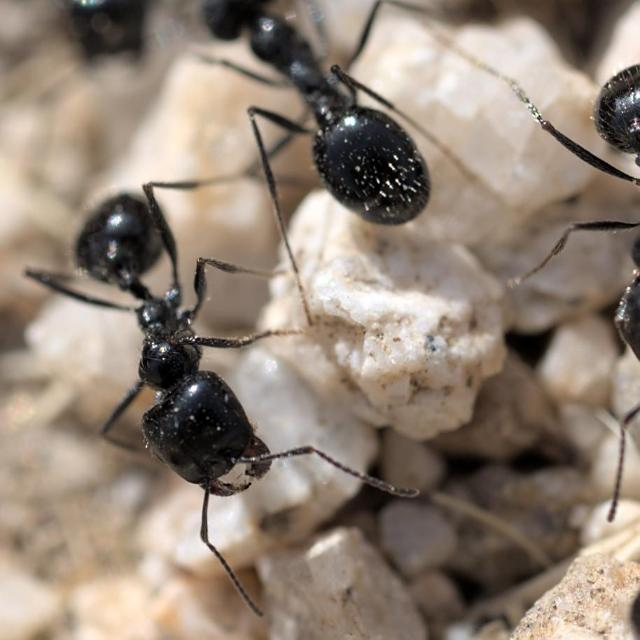Messor: (30, 178, 298, 524), (206, 0, 484, 224), (574, 40, 640, 398), (35, 0, 165, 64)
